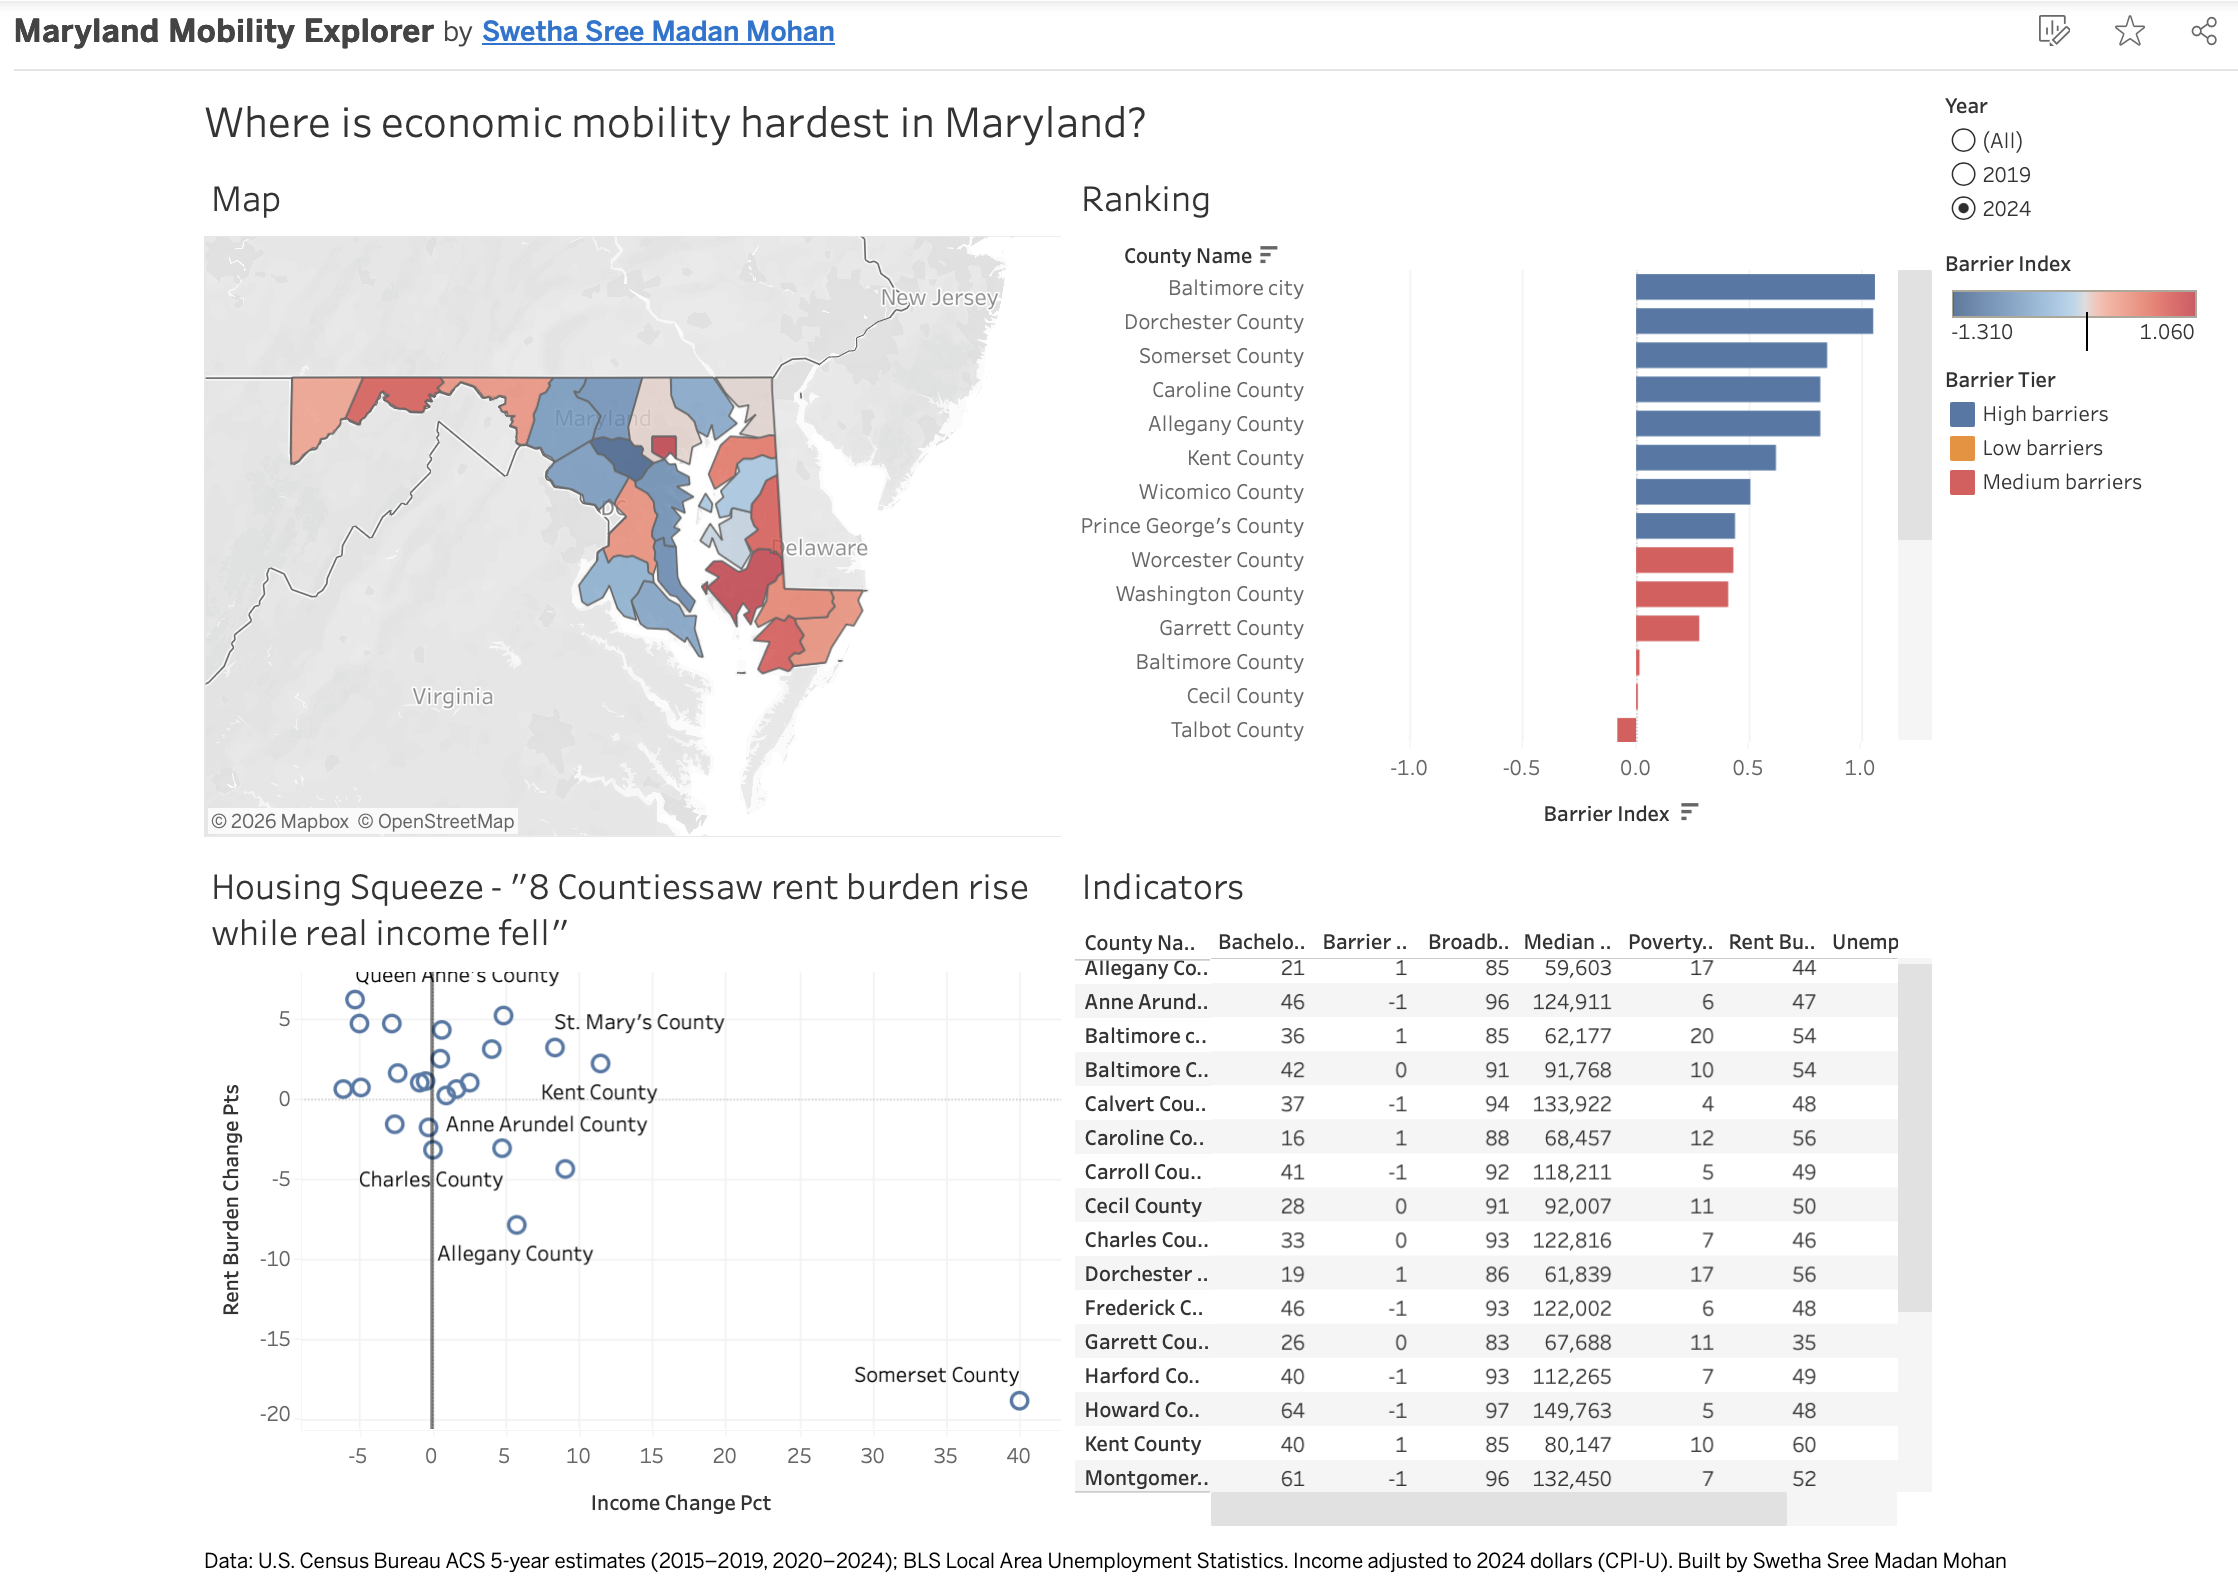

The page's visual inventory and layout, read from the dashboard file:
{"tool":"tableau","page":{"name":"Maryland Mobility Explorer","canvas":[1200,900],"ordinal":0},"visuals":[{"type":"title","box":[8,8,1024,42]},{"type":"filter","title":"Map","param":"[federated.1kteact0c1b6u919dqk8s029ai8r].[none:year:ok]","box":[1032,8,160,89]},{"type":"worksheet","title":"Map","mark":"Multipolygon","box":[8,50,512,405]},{"type":"worksheet","title":"Ranking","mark":"Automatic","rows":["county_name"],"cols":["barrier_index"],"box":[520,50,512,405]},{"type":"legend","title":"Map","param":"[federated.1kteact0c1b6u919dqk8s029ai8r].[sum:barrier_index:qk]","box":[1032,97,160,65]},{"type":"legend","title":"Ranking","param":"[federated.1kteact0c1b6u919dqk8s029ai8r].[none:barrier_tier:nk]","box":[1032,162,160,86]},{"type":"worksheet","title":"Housing Squeeze - \"8 Countiessaw rent burden rise while real income fell\"","mark":"Automatic","rows":["rent_burden_change_pts"],"cols":["income_change_pct"],"box":[8,455,512,405]},{"type":"worksheet","title":"Indicators","mark":"Automatic","rows":["county_name"],"box":[520,455,512,405]},{"type":"text","box":[8,860,1184,32]}]}

Visuals, with their boxes on the page's 1200x900 design canvas (x1, y1, x2, y2). These are canvas units, not pixel positions in the 2238x1588 screenshot, which may show the page scaled, cropped or inside an application window:
title: <bbox>8, 8, 1032, 50</bbox>
"Map" filter: <bbox>1032, 8, 1192, 97</bbox>
"Map" worksheet (Multipolygon marks): <bbox>8, 50, 520, 455</bbox>
"Ranking" worksheet: <bbox>520, 50, 1032, 455</bbox>
"Map" legend: <bbox>1032, 97, 1192, 162</bbox>
"Ranking" legend: <bbox>1032, 162, 1192, 248</bbox>
"Housing Squeeze - "8 Countiessaw rent burden rise while real income fell"" worksheet: <bbox>8, 455, 520, 860</bbox>
"Indicators" worksheet: <bbox>520, 455, 1032, 860</bbox>
text: <bbox>8, 860, 1192, 892</bbox>
